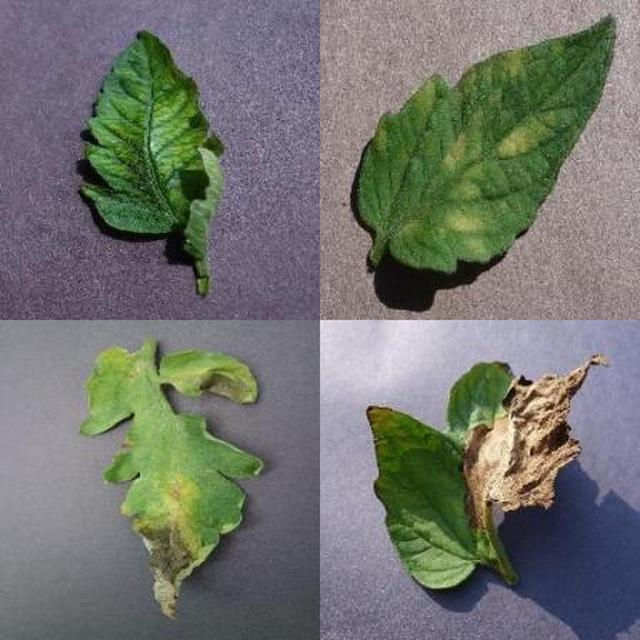Mosaic Virus Leaf: (215, 190, 640, 640)
